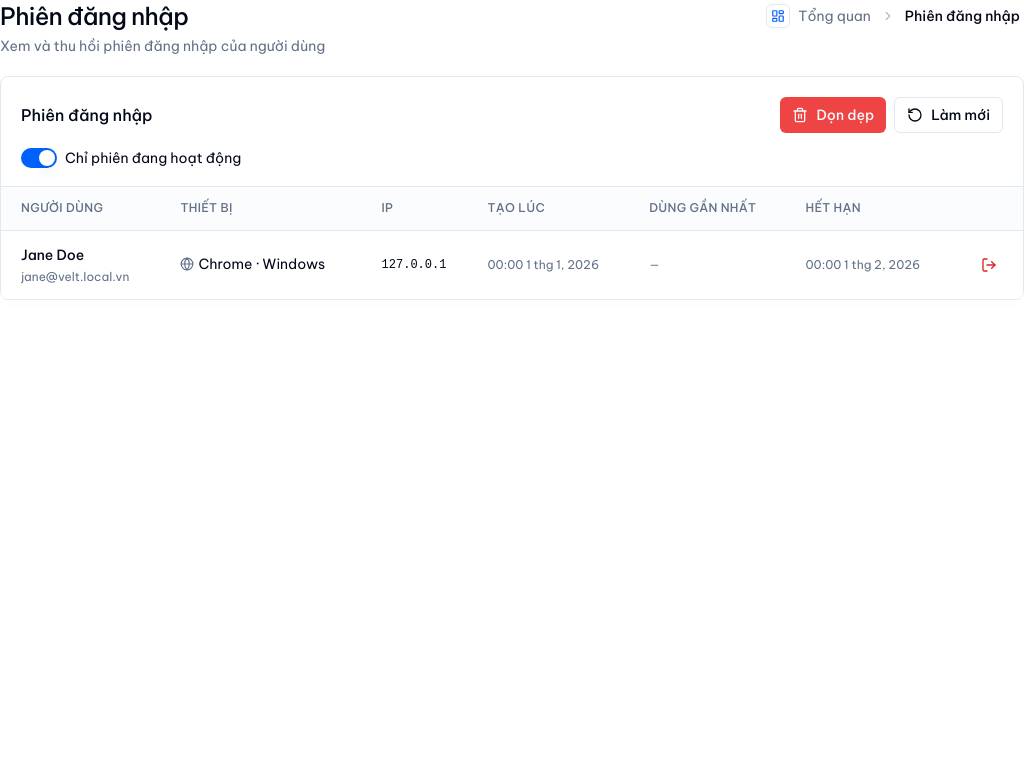
Test: Sessions › revoke → confirm → DELETE → dialog closes
Click the button named "Thu hồi": (989, 264) [971, 246, 1007, 282]
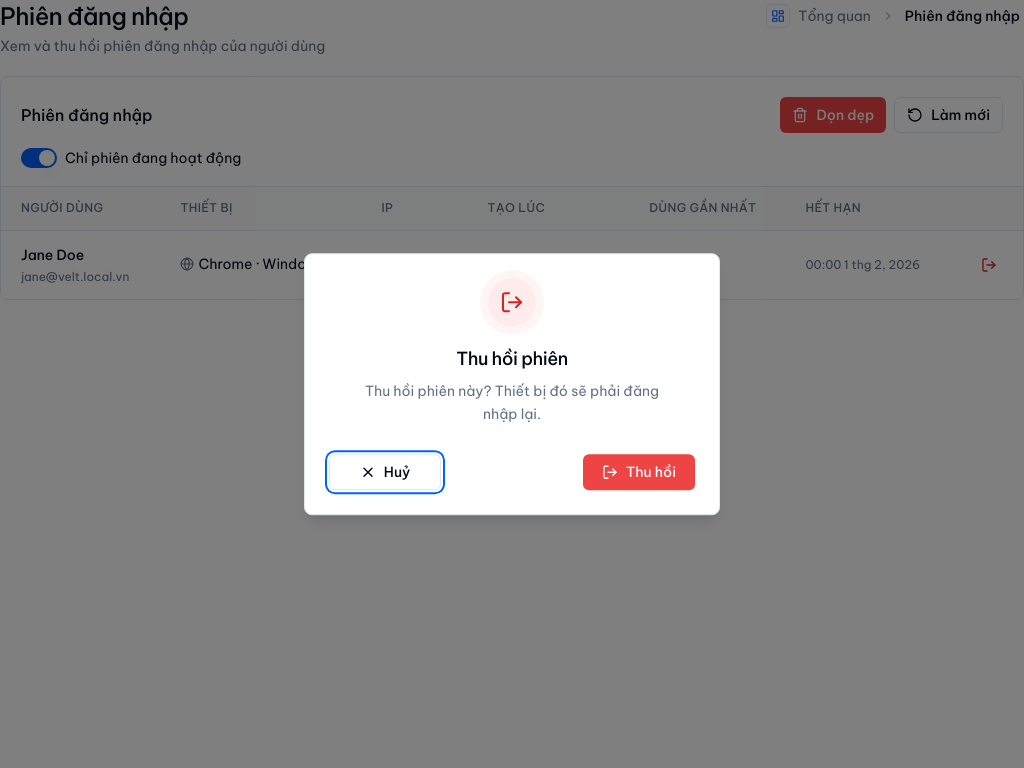
Click the button "Thu hồi": (639, 472) [583, 454, 695, 490]
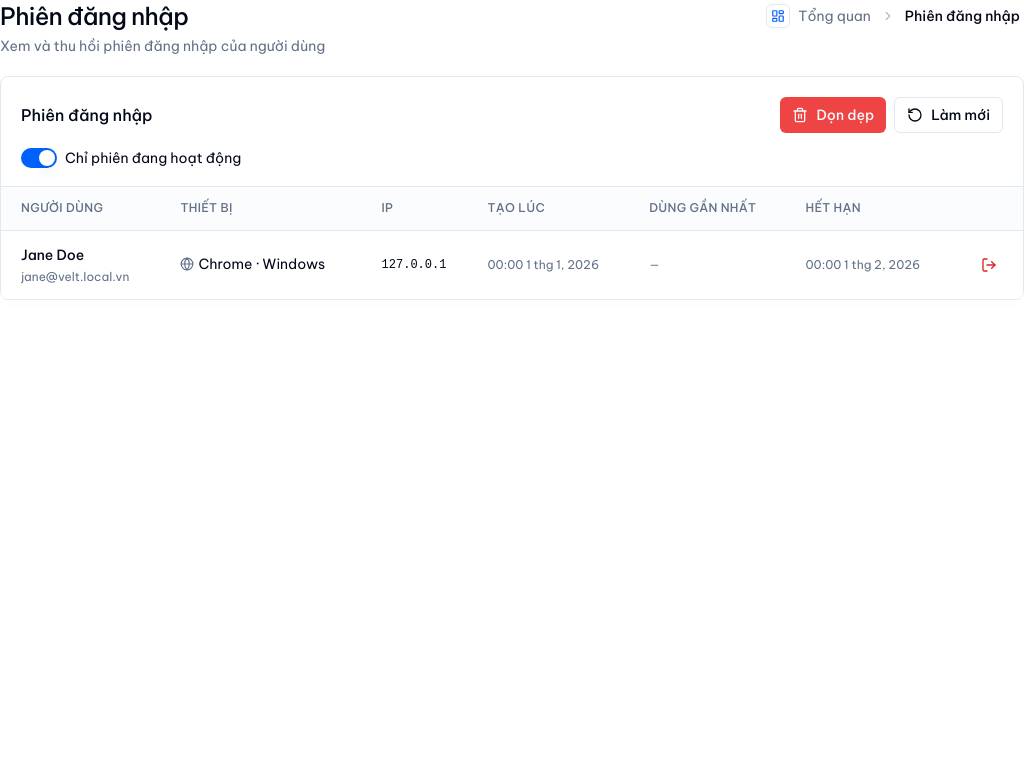
Now the dialog is gone
